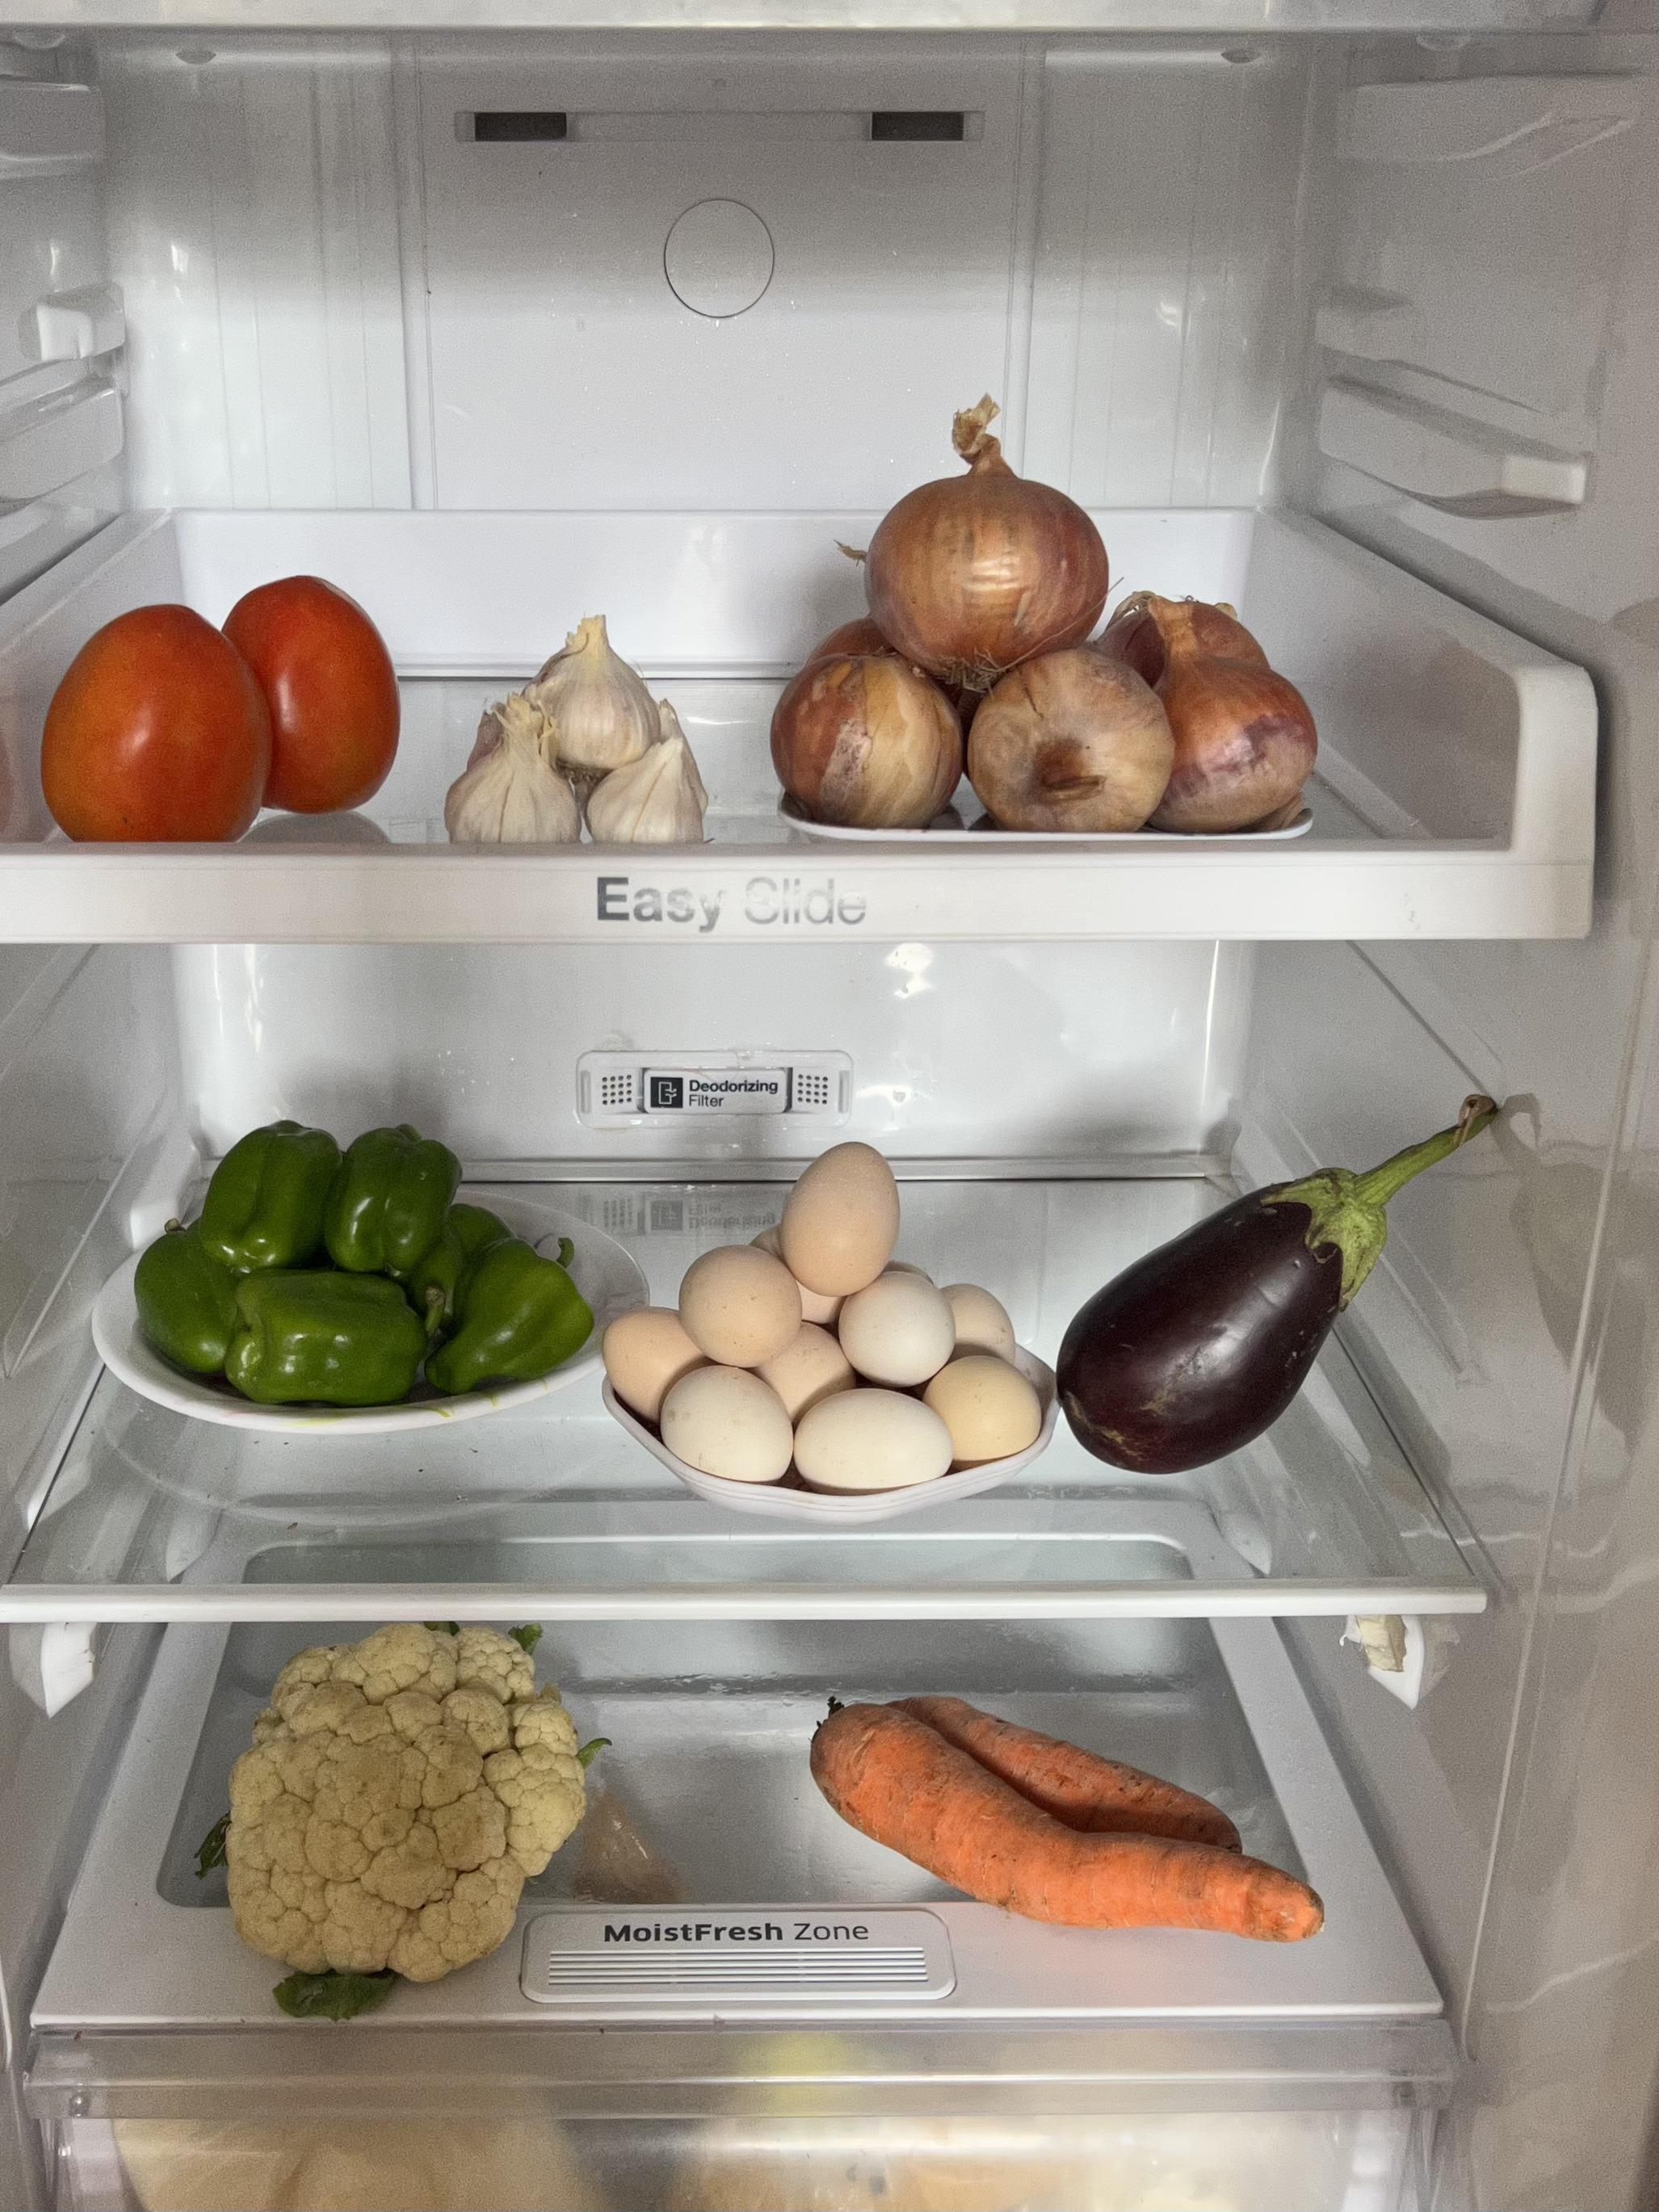bringal: (1051, 1127, 1476, 1486)
capsicum: (129, 1120, 582, 1407)
carrots: (814, 1686, 1321, 1937)
cauliflower: (214, 1616, 584, 1968)
egg: (610, 1160, 1040, 1489)
garlic: (446, 625, 702, 840)
onion: (775, 470, 1307, 829)
